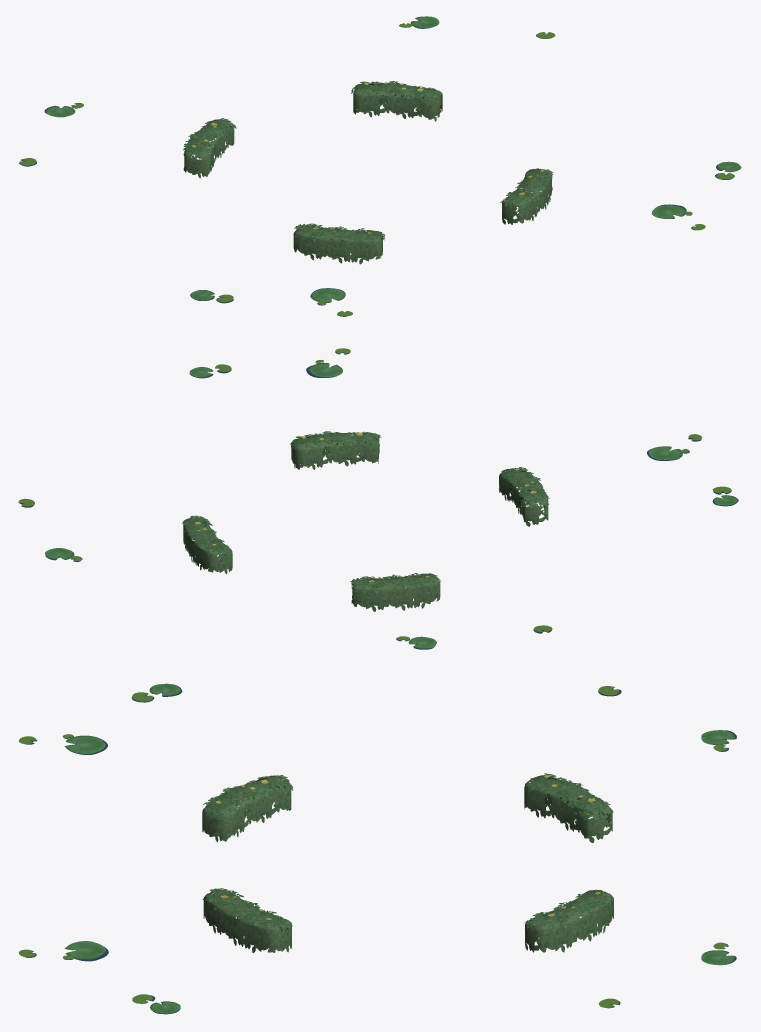
Rendered from pref_sm_4v4pointbake_CSD_Z_lv2.fbx.
3 renders of one model, top to bottom at view 1: azimuth 30°, elevation 25°; view 2: azimuth 150°, elevation 25°; view 3: azimuth 270°, elevation 25°, orthographic. The views are drawn at different scales.
Visible parts, largest first — view 1: sm_4v4pointbake_CSD_Z_a_lv2; view 2: sm_4v4pointbake_CSD_Z_a_lv2, sm_4v4pointbake_CSD_Z_b_lv2; view 3: sm_4v4pointbake_CSD_Z_a_lv2, sm_4v4pointbake_CSD_Z_b_lv2.
Boxes of the visible parts, x1,y1,x2,y2 form: sm_4v4pointbake_CSD_Z_a_lv2: (19,16,740,316); sm_4v4pointbake_CSD_Z_a_lv2: (18,348,737,648); sm_4v4pointbake_CSD_Z_b_lv2: (19,352,738,649); sm_4v4pointbake_CSD_Z_a_lv2: (18,683,734,1013); sm_4v4pointbake_CSD_Z_b_lv2: (25,684,736,1014).
Bounding box in the file's own units: 29.66 × 1.47 × 27.37.
